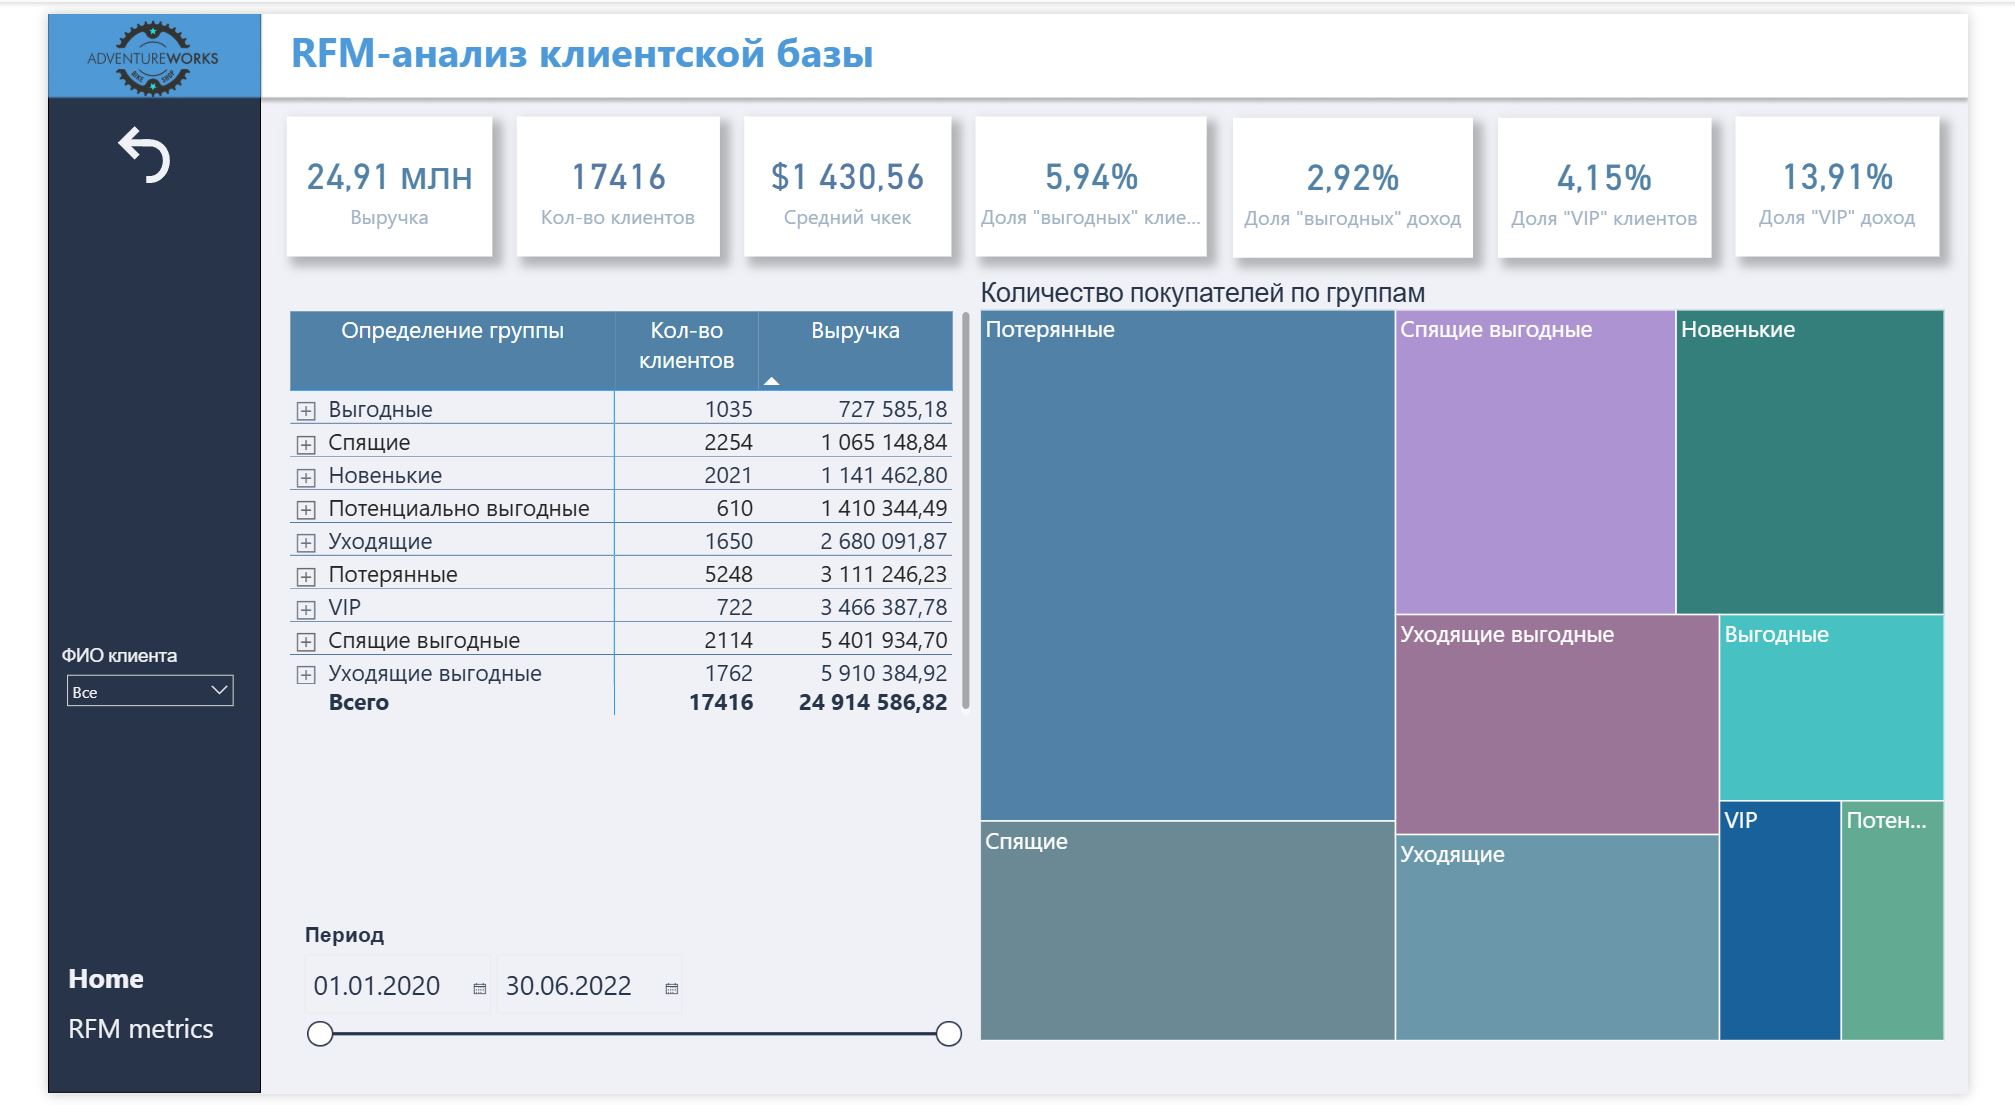

What the dashboard file says about the page in this screenshot:
{"tool":"powerbi","page":{"name":"Home","canvas":[1920,1080],"ordinal":0},"visuals":[{"type":"treemap","title":"Количество покупателей по группам","fields":{"Group":["RFM cats.Определение группы"],"Values":["CountNonNull(CustomerOrderingParams.CustomerKey)"]},"box":[928,264,974,768],"z":0},{"type":"pivotTable","fields":{"Rows":["RFM cats.Определение группы","CustomerOrderingParams.CustomerKey"],"Values":["_Measures.Кол-во клиентов","_Measures.Выручка"]},"box":[238,292,690,414],"z":1000},{"type":"card","title":"Выручка","fields":{"Values":["_Measures.Выручка"]},"box":[238.6,102.9,205.7,140],"z":2000},{"type":"card","title":"Выручка","fields":{"Values":["_Measures.Количество клиентов"]},"box":[468.6,102.9,202.9,140],"z":3000},{"type":"card","title":"Выручка","fields":{"Values":["_Measures.Средний чкек"]},"box":[695.7,102.9,207.1,140],"z":4000},{"type":"card","title":"Выручка","fields":{"Values":["_Measures.Доля \"выгодных\" клиентов"]},"box":[927.5,102.5,231.2,140],"z":5000},{"type":"card","title":"Выручка","fields":{"Values":["_Measures.Доля \"выгодных\" доход"]},"box":[1185,103.3,240,140],"z":6000},{"type":"card","title":"Выручка","fields":{"Values":["_Measures.Доля \"VIP\" доход"]},"box":[1687.7,102.3,203.8,140],"z":7000},{"type":"card","title":"Выручка","fields":{"Values":["_Measures.Доля \"VIP\" клиентов"]},"box":[1450,103.3,213.3,140],"z":8000},{"type":"textbox","title":"RFM-анализ клиентской базы","box":[238,10,918,56],"z":9000},{"type":"image","title":"Company Logo","box":[16.7,0,178.3,90],"z":10000},{"type":"slicer","fields":{"Values":["Calendar.Date"]},"box":[243.3,903.3,678.3,150],"z":11000},{"type":"actionButton","box":[62,106,88,68],"z":12000},{"type":"pageNavigator","box":[20,942.2,178.9,90],"z":13000},{"type":"slicer","title":"ФИО клиента","fields":{"Values":["CustomerOrderingParams.Customer Full Name"]},"box":[8.9,631.1,186.7,75.6],"z":14000}]}

Visuals, with their boxes in screenshot pixels (x1, y1, x2, y2), scaled from the page's 1920x1080 canvas onto the 2015x1105 screenshot:
"Количество покупателей по группам" treemap: l=974, t=270, r=1996, b=1056
pivotTable - RFM cats.Определение группы x CustomerOrderingParams.CustomerKey: l=250, t=299, r=974, b=722
"Выручка" card: l=250, t=105, r=466, b=249
"Выручка" card: l=492, t=105, r=705, b=249
"Выручка" card: l=730, t=105, r=947, b=249
"Выручка" card: l=973, t=105, r=1216, b=248
"Выручка" card: l=1244, t=106, r=1496, b=249
"Выручка" card: l=1771, t=105, r=1985, b=248
"Выручка" card: l=1522, t=106, r=1746, b=249
"RFM-анализ клиентской базы" textbox: l=250, t=10, r=1213, b=68
"Company Logo" image: l=18, t=0, r=205, b=92
slicer - Calendar.Date: l=255, t=924, r=967, b=1078
actionButton: l=65, t=108, r=157, b=178
pageNavigator: l=21, t=964, r=209, b=1056
"ФИО клиента" slicer: l=9, t=646, r=205, b=723
